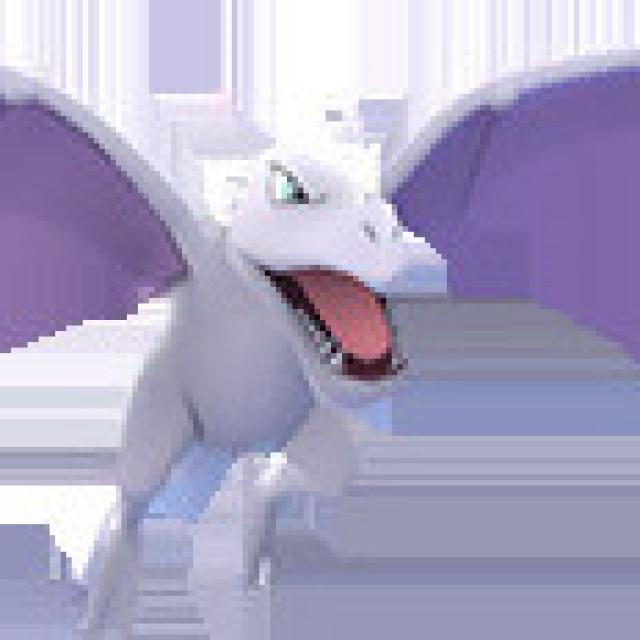Aerodactyl: (41, 106, 496, 544)
